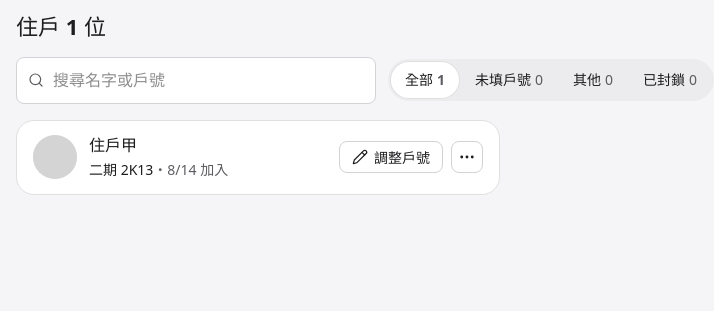
Test: ResidentMemberManagementApp › hides the household selects when the organizer picks 其他
The image size is (714, 311).
Click the button with aria-label "調整住戶資料 住戶甲" at [391, 157], box [339,141,443,173]
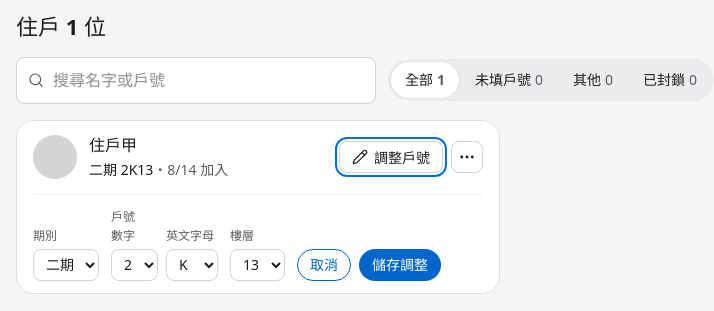
Result: the dropdown named "住戶甲 戶號英文字母" is shown at [166,249,218,281]
Select "其他" in the dropdown named "住戶甲 期別" at [66, 265], box [33,249,99,281]
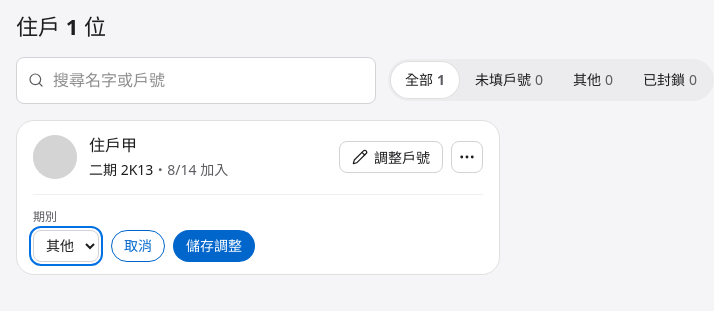
Result: the dropdown labelled "住戶甲 樓層" is gone
